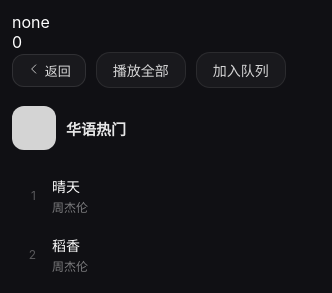
Scenario: PlaylistDetail — DM-06 › enqueues all songs without clearing current queue
The image size is (332, 293).
Expected: the text "晴天" is shown, [52, 176, 80, 196]
Click the button "加入队列". click: (241, 70)
box: [196, 52, 286, 88]
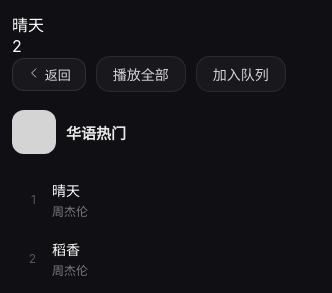
Now the text with test id "queue-count" reads "2", box [12, 36, 22, 56]
Now the text with test id "current" reads "晴天", box [12, 15, 44, 35]
